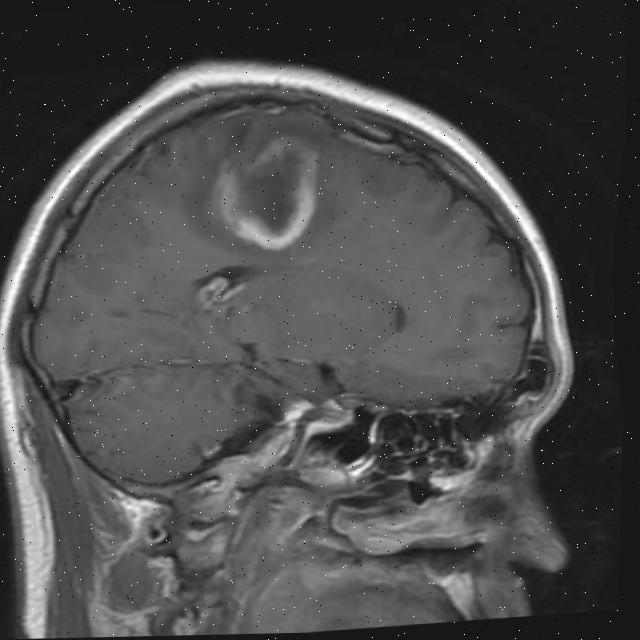Glioma: (207, 121, 325, 257)
